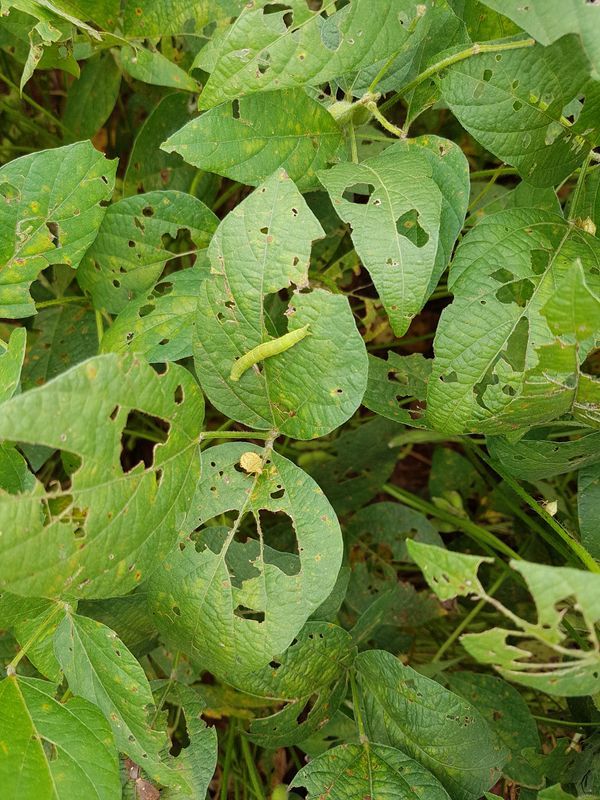Anticarsia_gemmatalis: (217, 314, 323, 392)
Euschistus_heros_adulto: (116, 751, 147, 780), (127, 780, 168, 800)
Euschistus_heros_ninfa: (233, 446, 271, 483)
